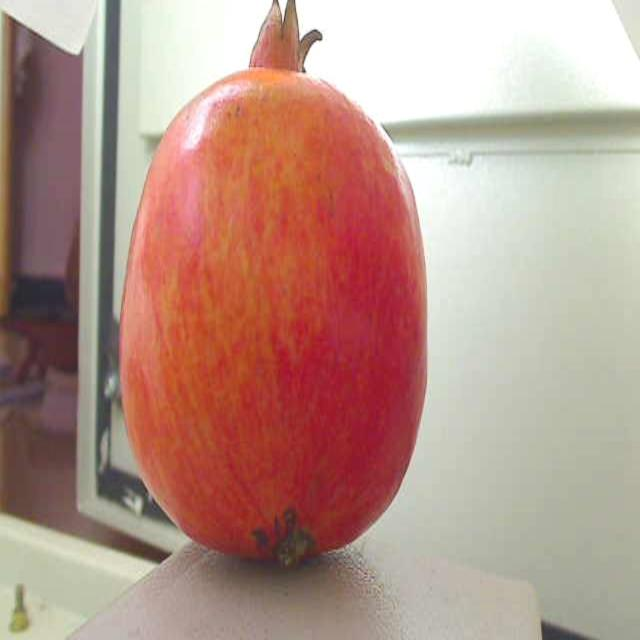pomegranate: (111, 0, 442, 604)
